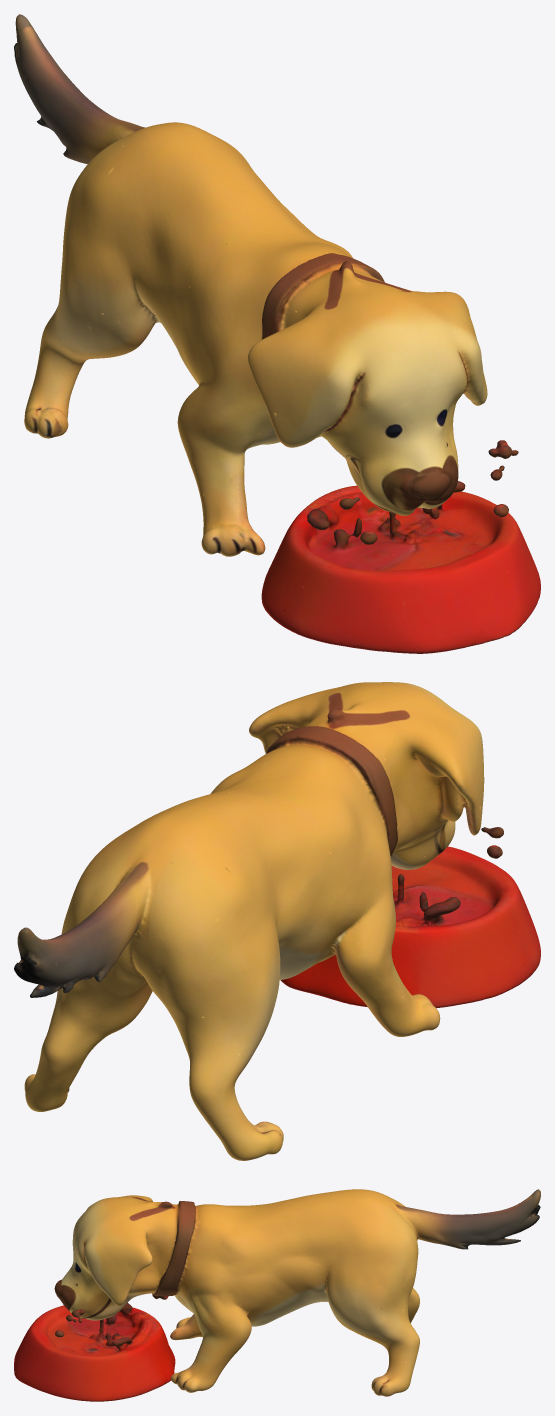
File: Meshy_AI_Dog_Eat_0616130922_texture.glb
The picture shows the model from 3 angles, top to bottom: view 1: azimuth 30°, elevation 25°; view 2: azimuth 150°, elevation 25°; view 3: azimuth 270°, elevation 25°; orthographic projection. The views are drawn at different scales.
Size of the model in its own units: 0.6505 by 0.7444 by 2.
1 material, 1 textured.
